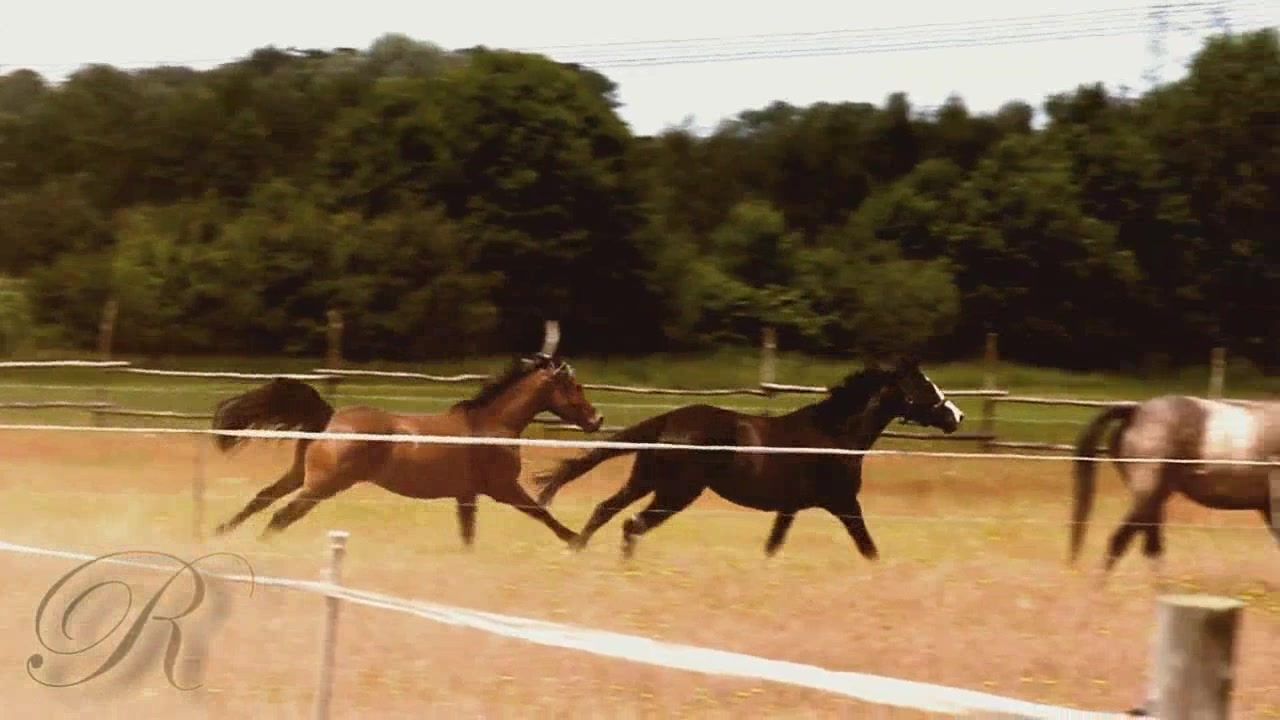horse: (534, 363, 964, 563), (208, 352, 610, 547), (1058, 393, 1280, 587)
